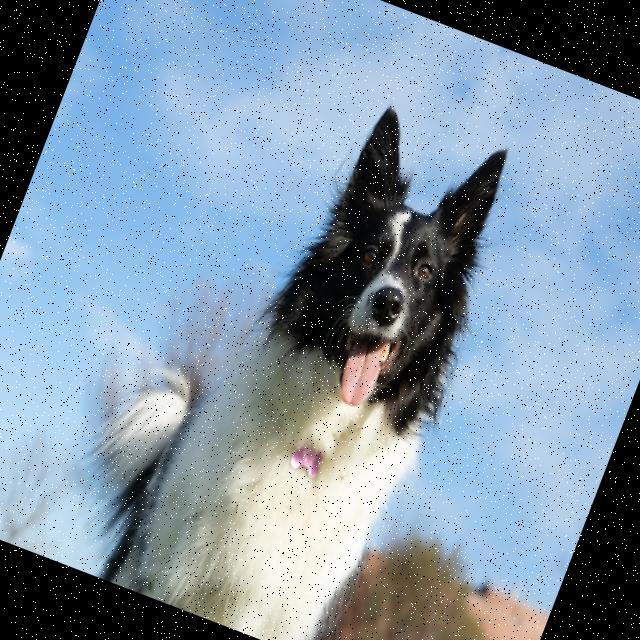Dog: (45, 47, 534, 640)
